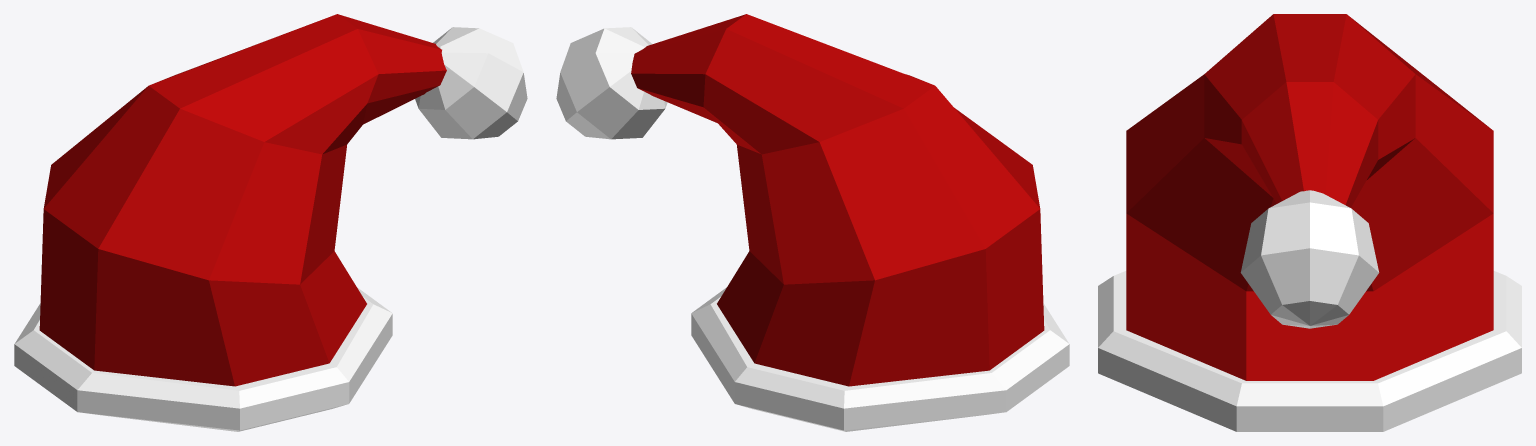
File: gorroNavidad.fbx
3 renders of one model, left to right at view 1: azimuth 30°, elevation 25°; view 2: azimuth 150°, elevation 25°; view 3: azimuth 270°, elevation 25°, orthographic. The views are drawn at different scales.
Parts seen in each view (by area): view 1: Gorra; view 2: Gorra; view 3: Gorra.
Boxes of the visible parts, bbox=[...] form: Gorra: bbox=[14, 14, 527, 431]; Gorra: bbox=[556, 14, 1069, 431]; Gorra: bbox=[1098, 14, 1521, 431].
Size of the model in its own units: 4.53 by 2.77 by 3.
1 material, 1 textured.
